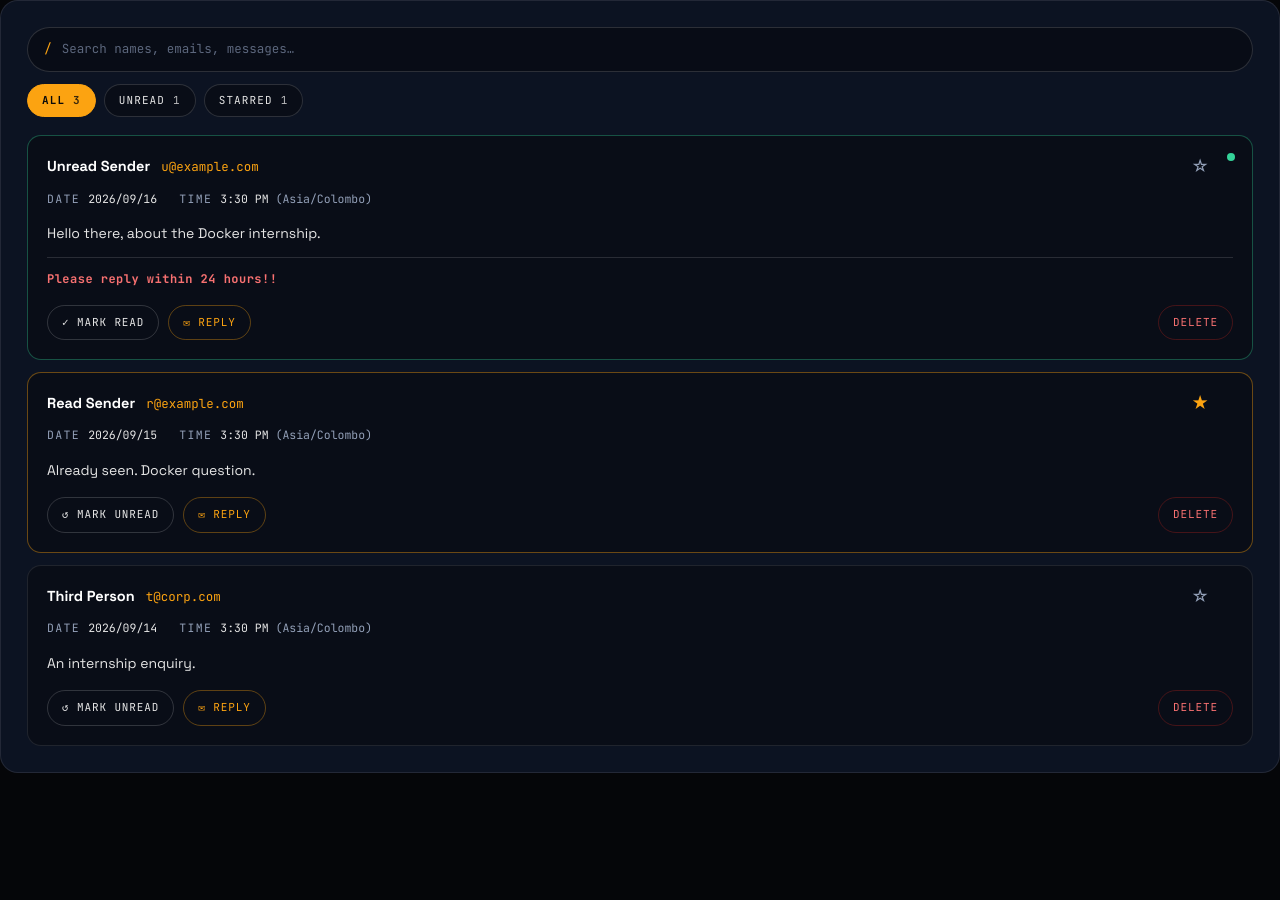
DELETE asks first (PF-115) › CANCEL deletes nothing
Click the button with aria-label "Delete message from Read Sender". click: click(1196, 515)
box: [1158,497,1233,533]
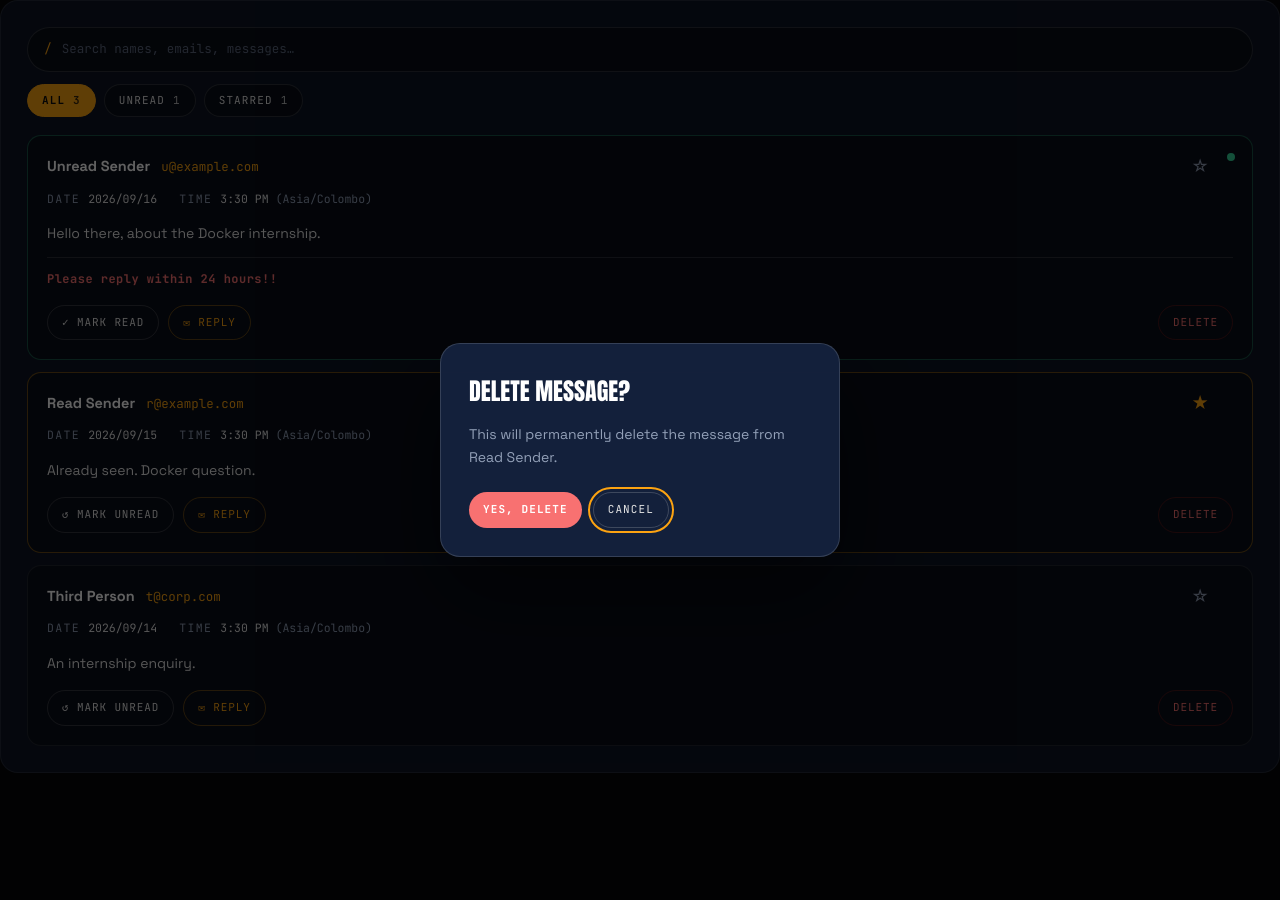
Click the button "CANCEL". click: click(631, 510)
box: [593,492,669,528]
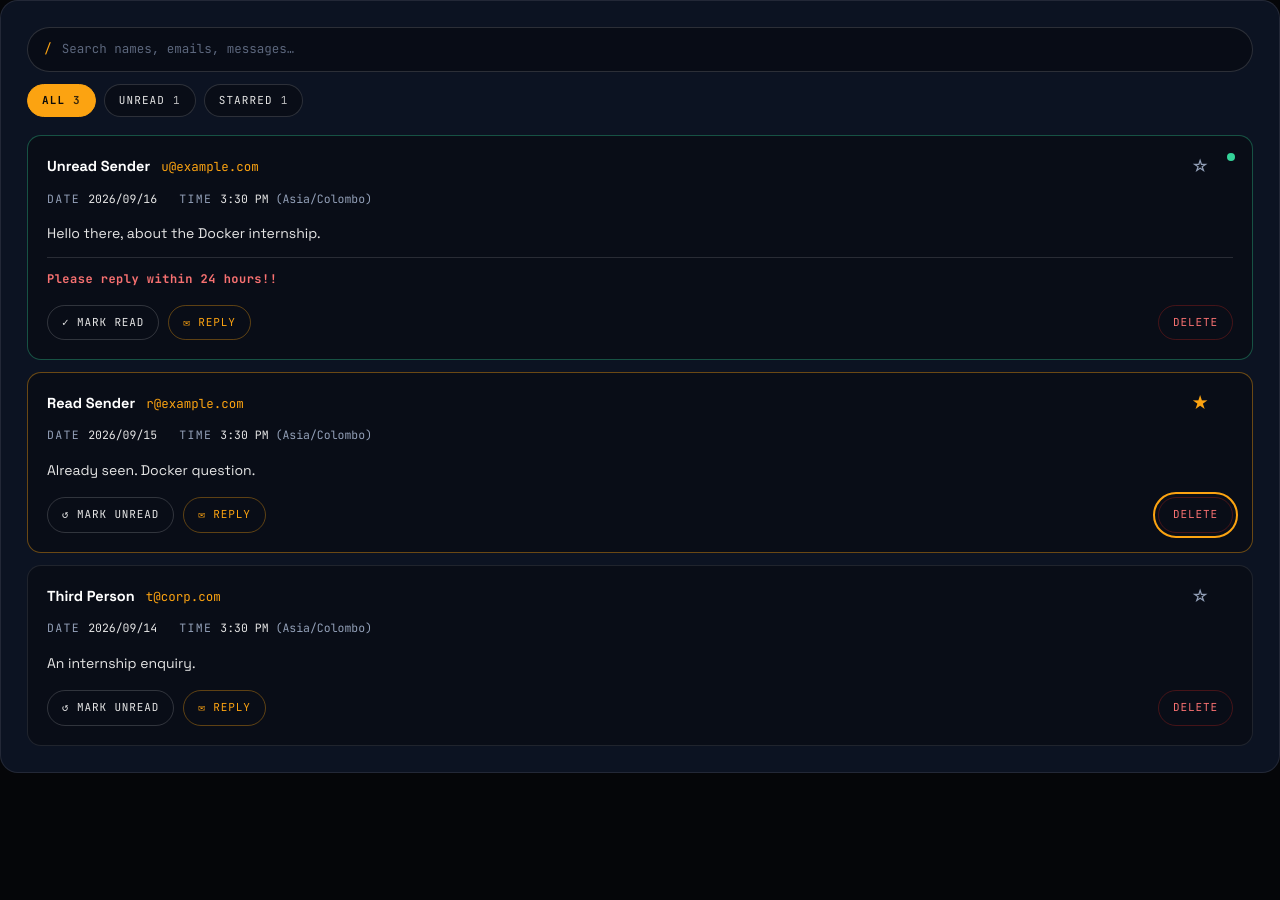
Check: the dialog is gone
